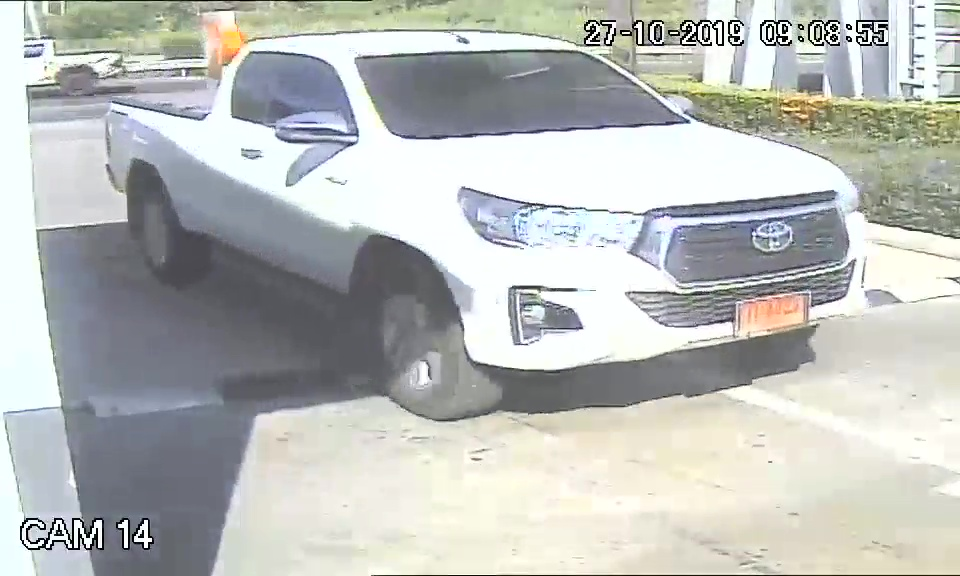pickup: (107, 27, 873, 422)
